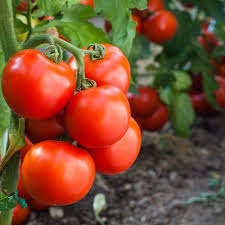tomato: (23, 137, 108, 196), (3, 49, 66, 115), (61, 79, 127, 138)
